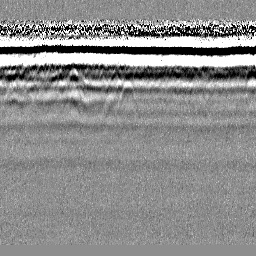cavity: (117, 80, 136, 107)
